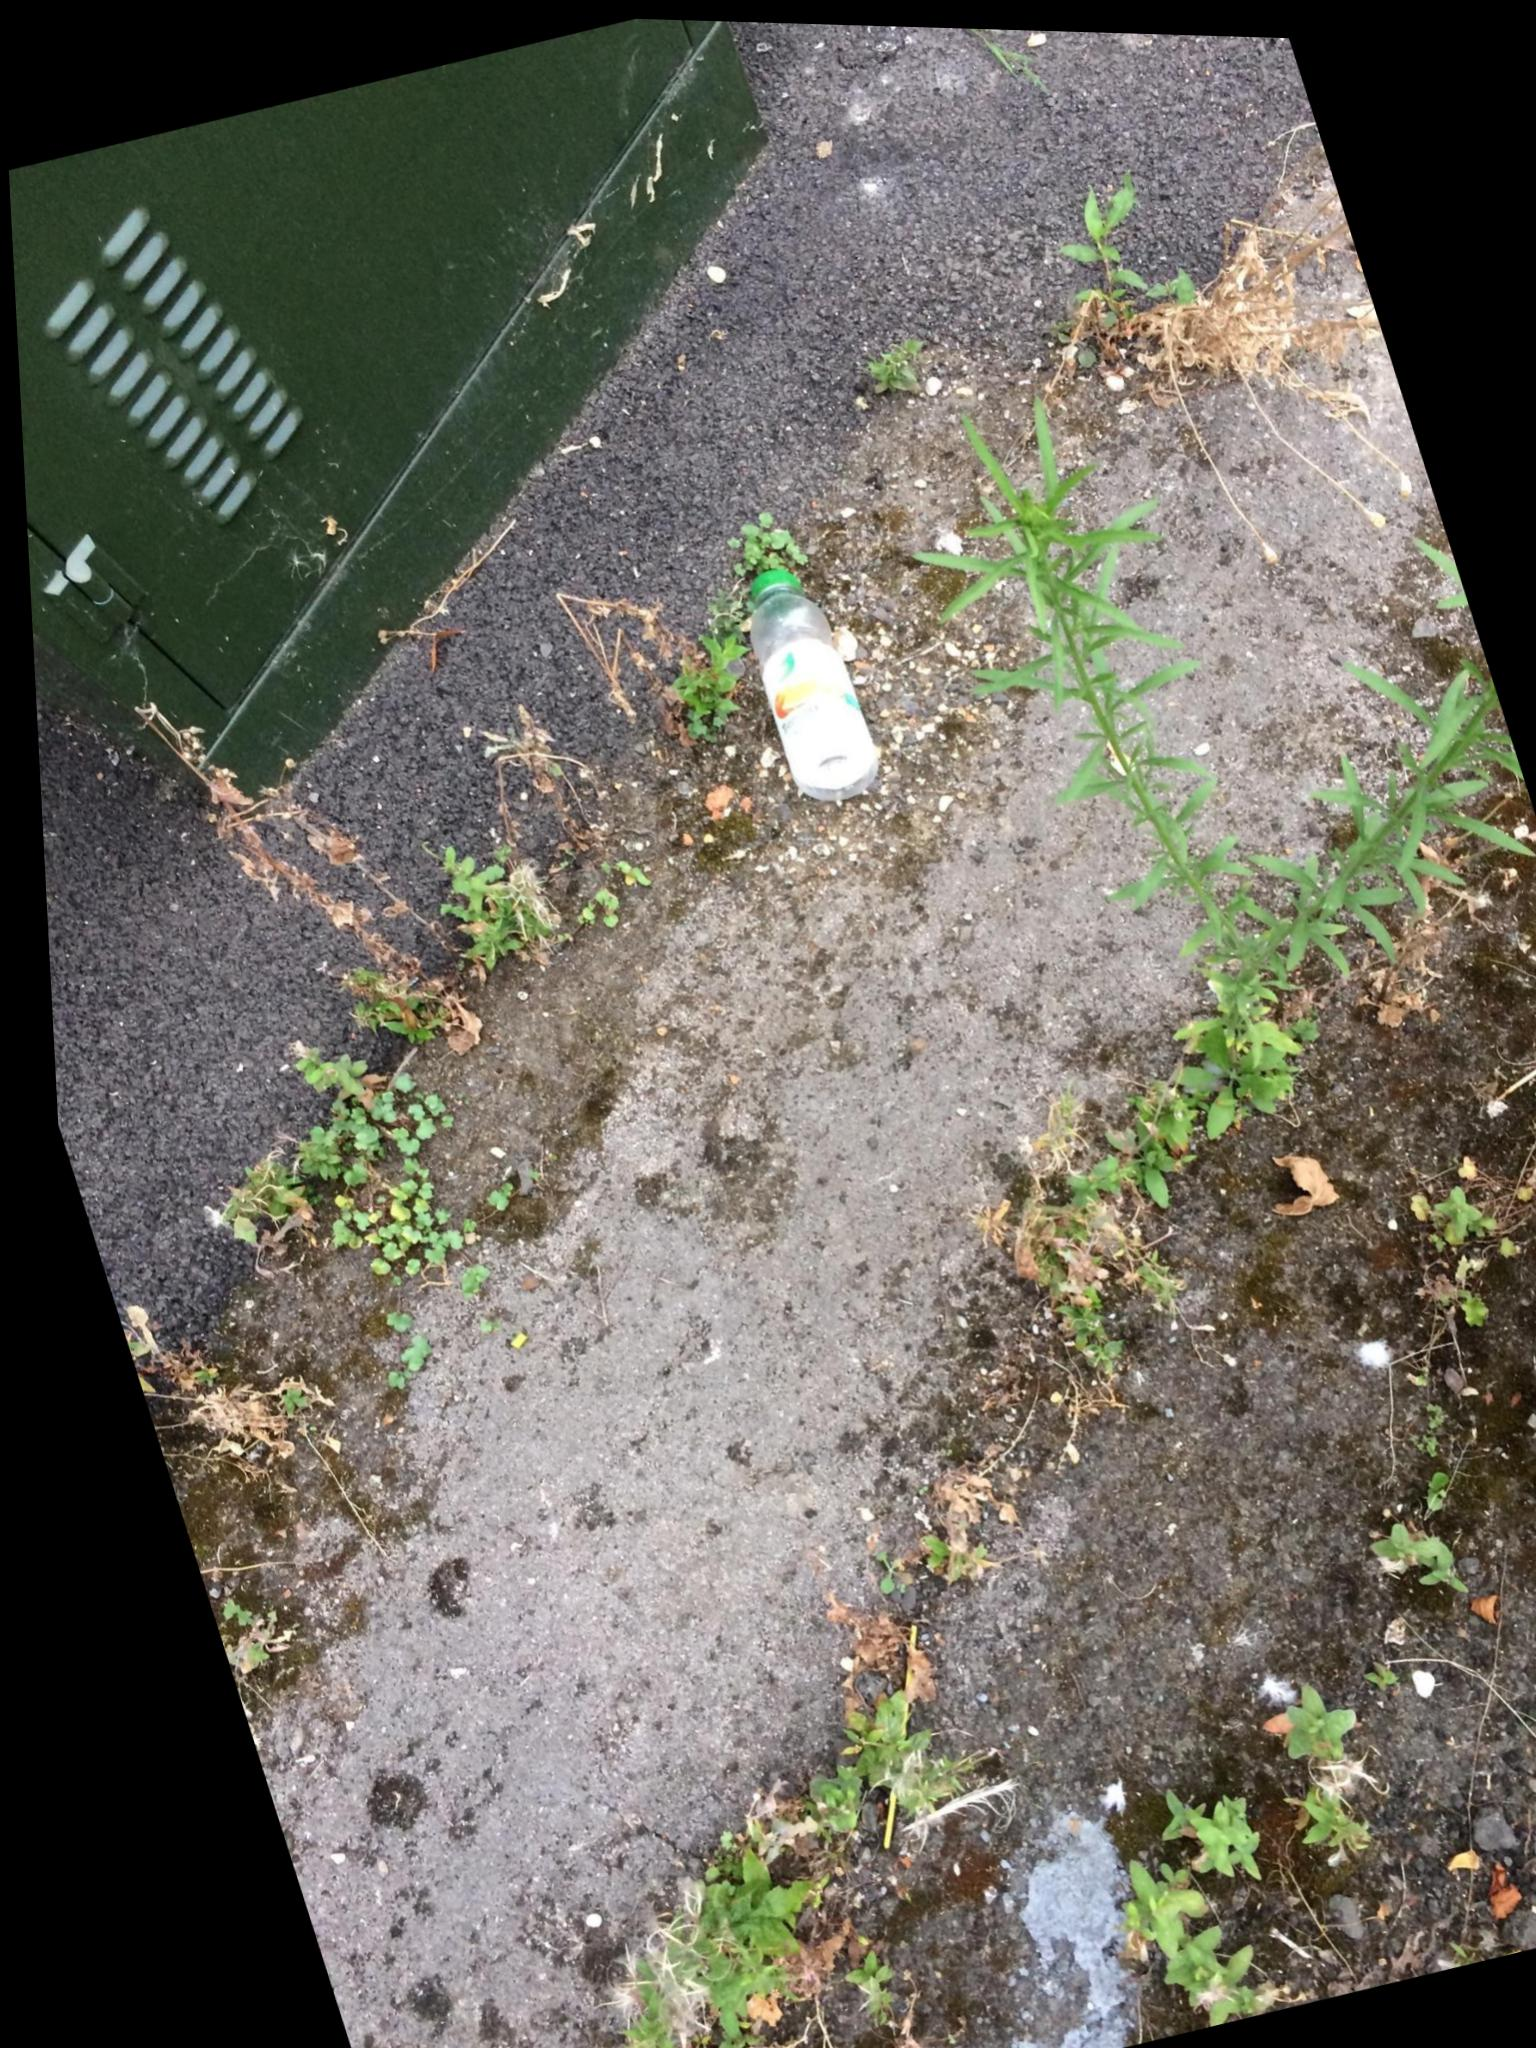plastic: (718, 545, 894, 818)
